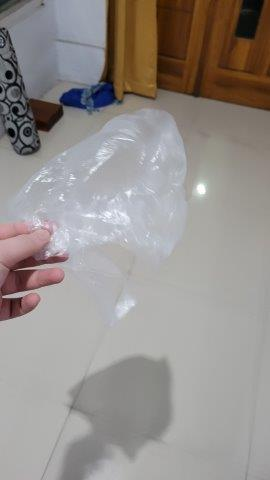plastik: (8, 111, 187, 309)
